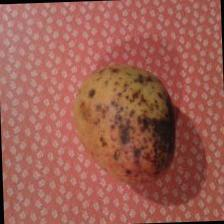Mango Overripe: (69, 61, 179, 182)
